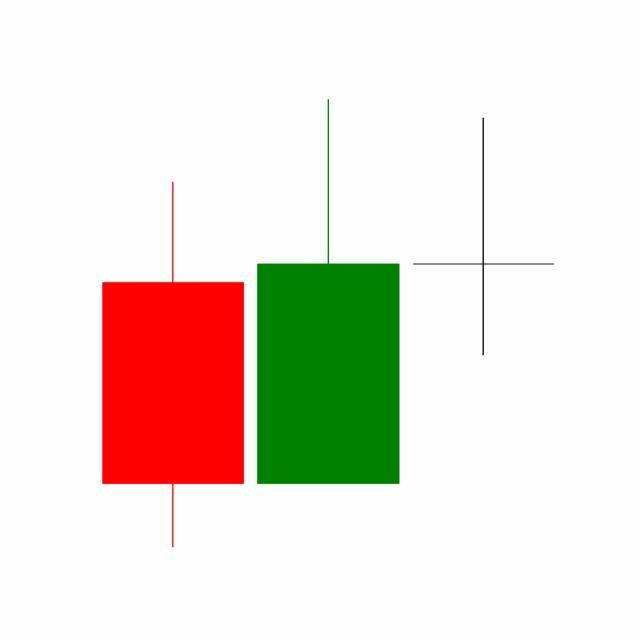Spinning Top: (406, 115, 562, 359)
